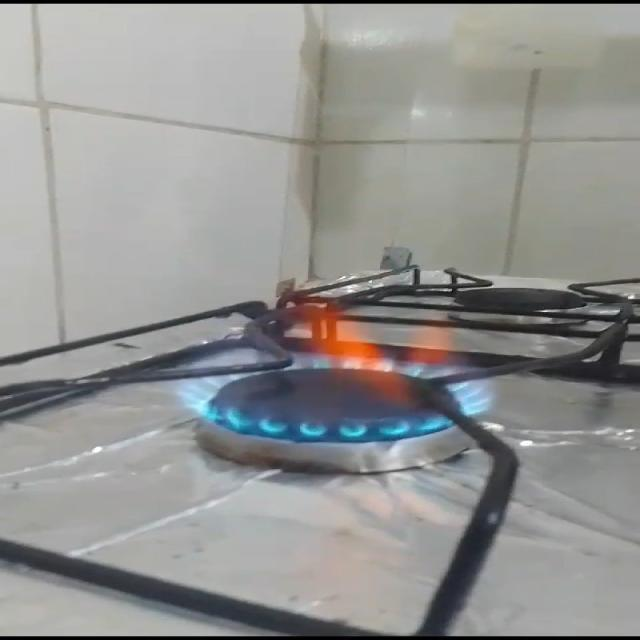fogo-ypXI: (173, 286, 498, 442)
